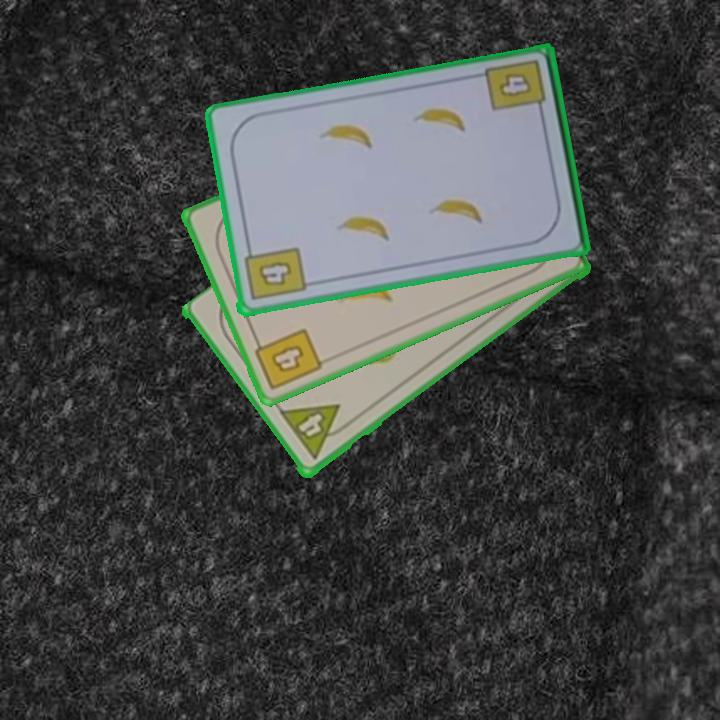4b: (249, 325, 325, 394), (240, 241, 308, 304), (494, 70, 535, 101)
4p: (277, 400, 354, 464)
